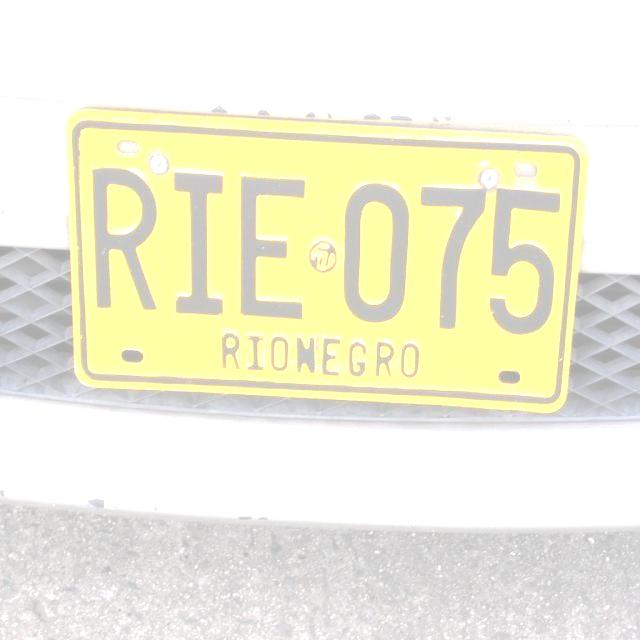placa: (63, 104, 592, 418)
